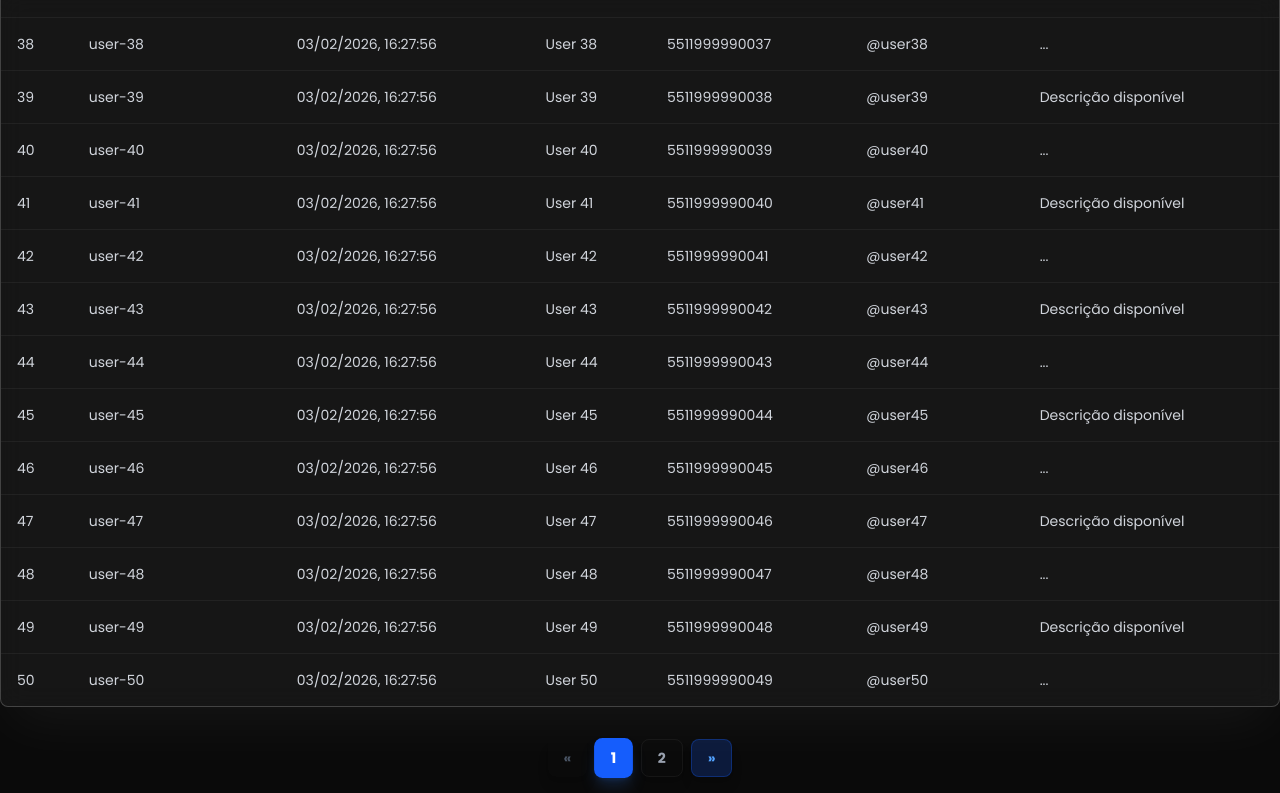
it: TableShell Integration › should handle pagination correctly
(page scrolled)
Expected: the text "User 50" is shown, x1=530 y1=654 x2=651 y2=706
Expected: the text "User 51" is not shown
Click the button "»" at x=712, y=758, box x1=691 y1=739 x2=732 y2=777
(page scrolled)
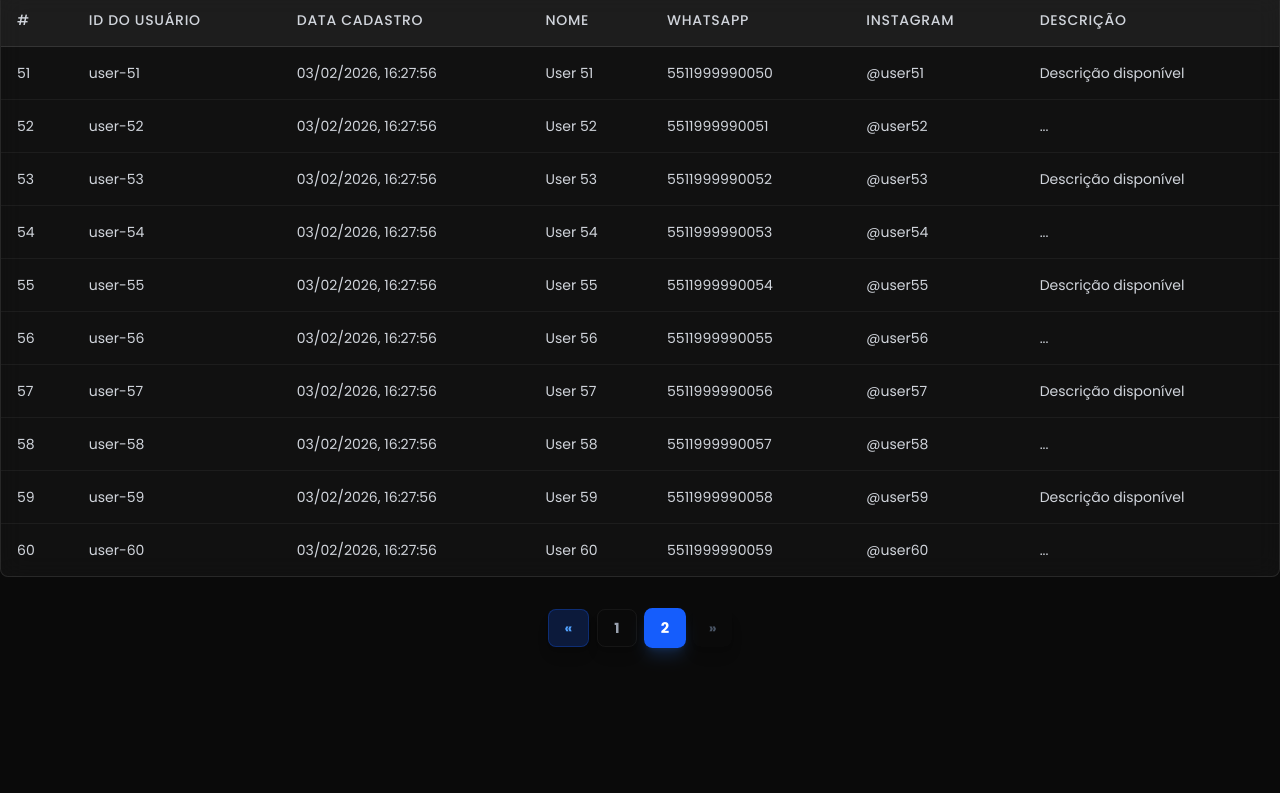
Expected: the text "User 51" is shown, x1=530 y1=46 x2=651 y2=100
Expected: the text "User 60" is shown, x1=530 y1=524 x2=651 y2=576
Expected: the text "User 50" is gone
